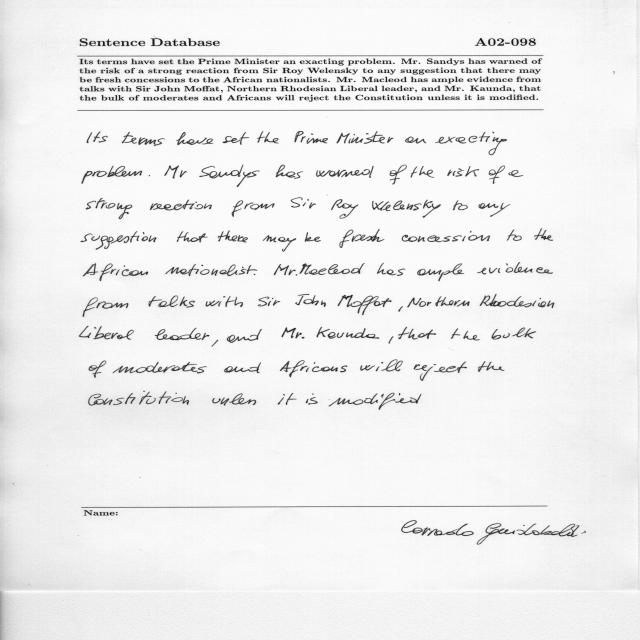word: (435, 132, 507, 155), (329, 393, 421, 410), (89, 391, 189, 406), (81, 231, 156, 250), (200, 165, 260, 187), (372, 200, 441, 218), (84, 263, 149, 281), (280, 360, 347, 377), (165, 264, 257, 276), (82, 166, 142, 184), (338, 295, 391, 315), (480, 294, 555, 308), (112, 362, 207, 373), (414, 362, 467, 381), (402, 231, 490, 242), (87, 198, 133, 219), (477, 263, 553, 275), (83, 297, 128, 317), (340, 229, 385, 248), (417, 264, 464, 282), (300, 263, 365, 275), (79, 326, 134, 340), (317, 327, 379, 339), (337, 131, 393, 144), (232, 200, 274, 217), (316, 166, 374, 178), (407, 297, 470, 308), (150, 200, 212, 211), (155, 328, 209, 340), (122, 132, 165, 146), (149, 295, 195, 308), (263, 235, 296, 252), (331, 199, 358, 219), (492, 328, 536, 340), (212, 394, 256, 406), (399, 327, 437, 340), (227, 329, 262, 343), (177, 132, 214, 145), (360, 360, 403, 371), (478, 203, 511, 217), (295, 131, 328, 144), (205, 296, 243, 307), (295, 294, 326, 307), (276, 165, 303, 179), (224, 363, 261, 373), (377, 263, 405, 276), (218, 231, 248, 243), (447, 166, 479, 177), (451, 329, 480, 341), (389, 165, 407, 184), (177, 232, 208, 243), (223, 132, 249, 145), (89, 360, 106, 378), (478, 361, 505, 372), (411, 166, 435, 178), (489, 166, 505, 184), (165, 166, 187, 179), (291, 198, 316, 209), (257, 132, 279, 144), (282, 328, 305, 339), (277, 393, 297, 405), (87, 132, 108, 143), (534, 229, 553, 241), (258, 297, 280, 307), (507, 229, 522, 241), (274, 264, 289, 275), (305, 232, 321, 242), (453, 201, 468, 211), (405, 137, 426, 144), (306, 394, 318, 405), (508, 170, 523, 177), (289, 269, 298, 276), (212, 340, 219, 347), (388, 337, 394, 344), (398, 306, 403, 312), (399, 393, 400, 396), (149, 175, 150, 176)
